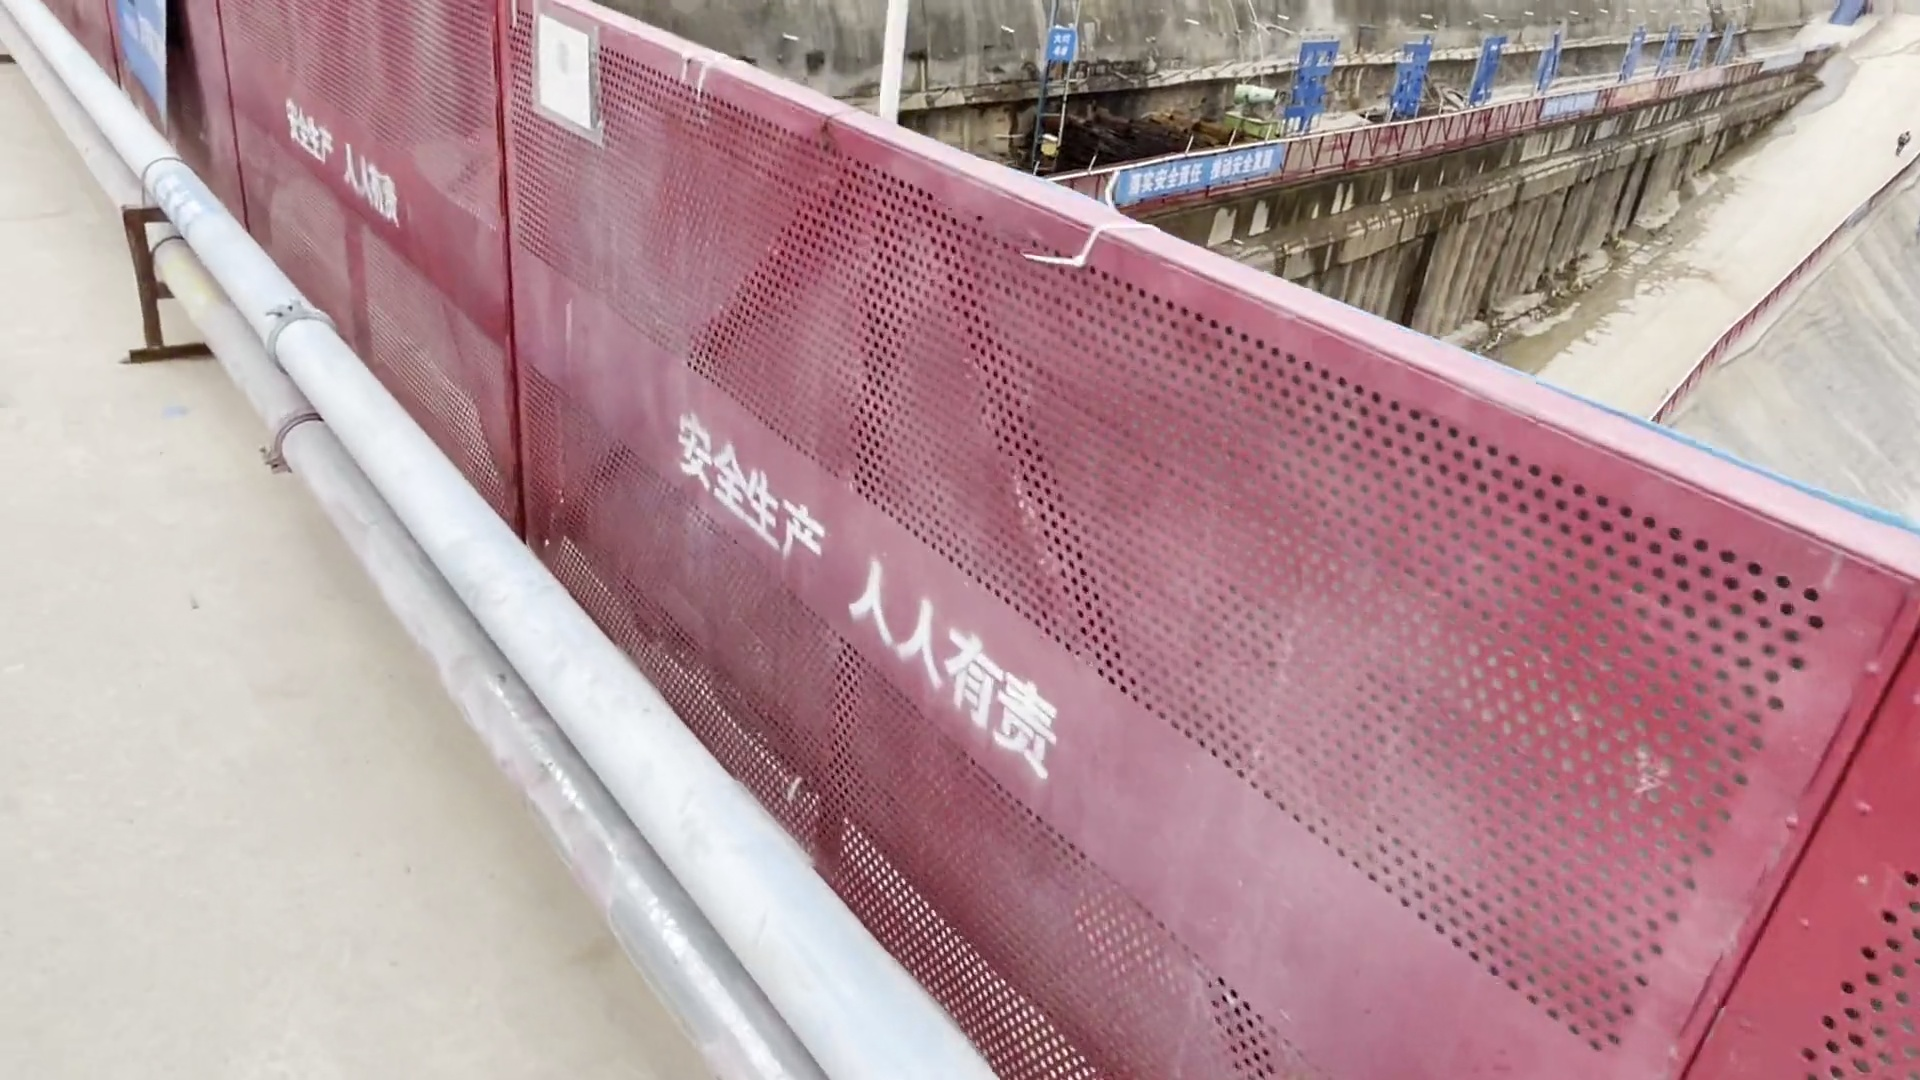fence: (578, 16, 1883, 1080)
